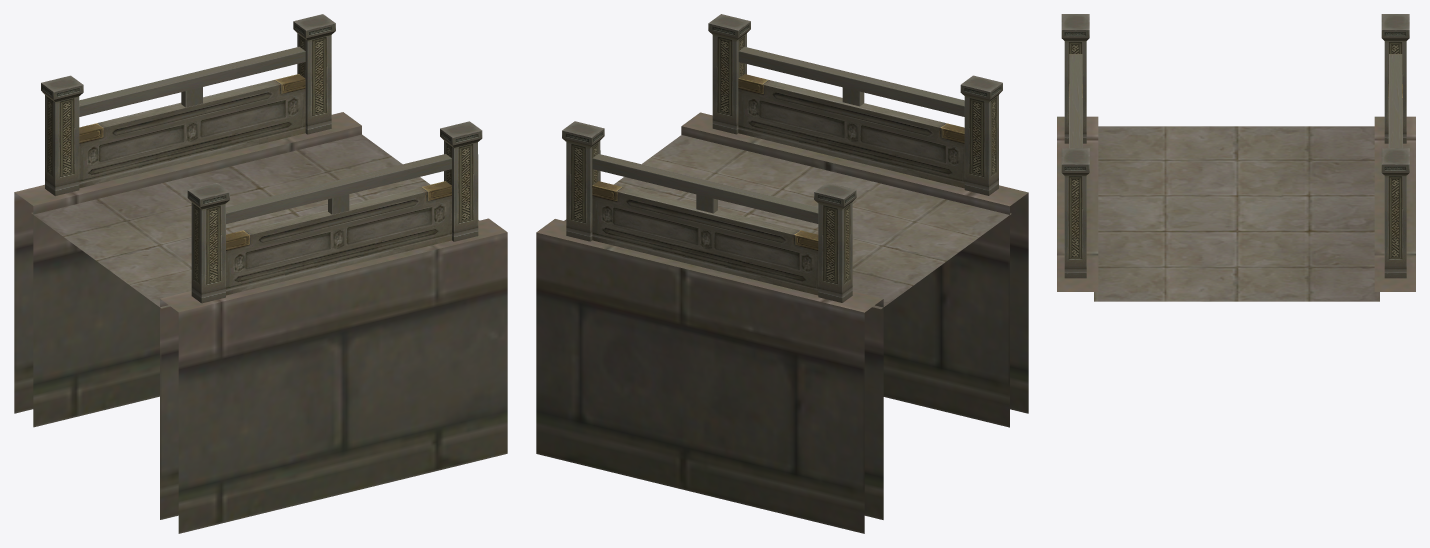
File: s7_qianchongta_neibu_jianzhu001_qiao02.FBX
3 views of the same model, side by side, from view 1: azimuth 30°, elevation 25°; view 2: azimuth 150°, elevation 25°; view 3: azimuth 270°, elevation 25° (orthographic). The views are drawn at different scales.
Visible parts, largest first — view 1: Object01xcxcxc; view 2: Object01xcxcxc; view 3: Object01xcxcxc.
Part boxes in pixels (x1=…): Object01xcxcxc: x1=14, y1=14, x2=507, y2=533; Object01xcxcxc: x1=536, y1=14, x2=1028, y2=533; Object01xcxcxc: x1=1057, y1=14, x2=1415, y2=301.
Size of the model in its own units: 5.92 by 5.63 by 5.12.
